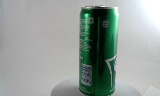sprite: (72, 4, 112, 95)
